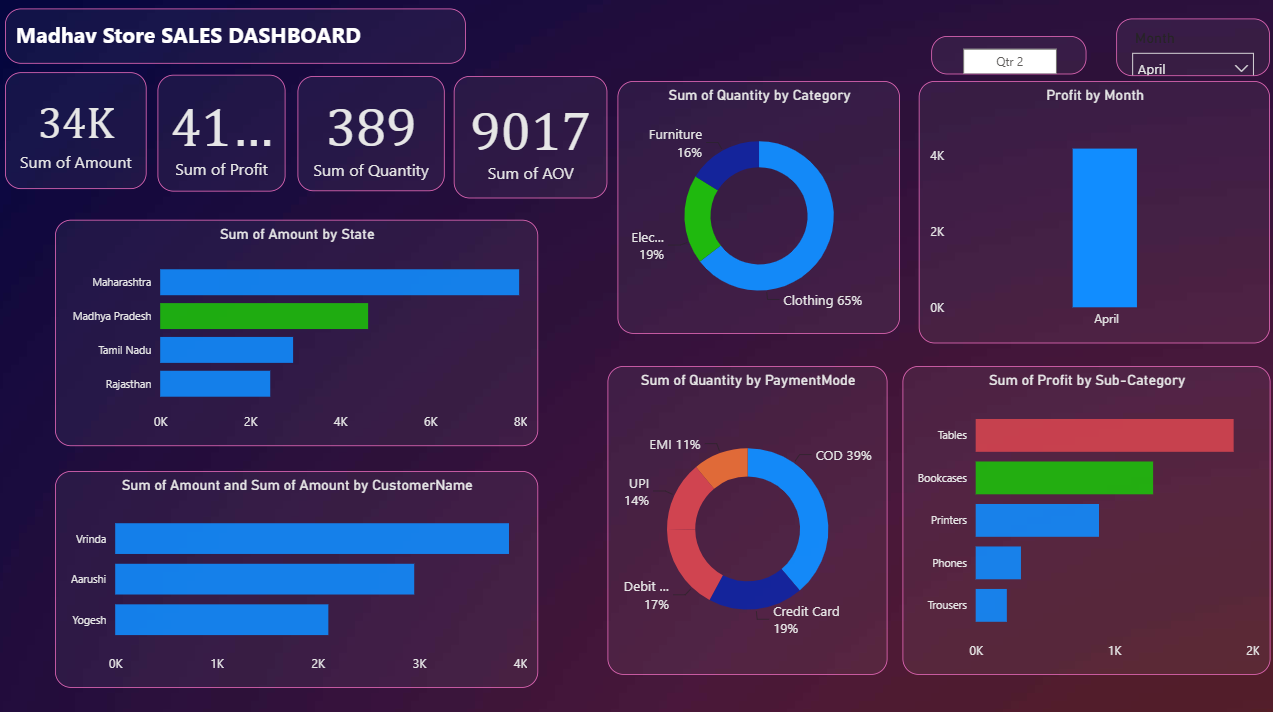

Layout of this report page (visuals, bound fields, positions):
{"tool":"powerbi","page":{"name":"Page 1","canvas":[1280,720],"ordinal":0},"visuals":[{"type":"lineStackedColumnComboChart","title":" Profit by Month","fields":{"Category":["Orders.Order Date.Variation.Date Hierarchy.Month"],"Y":["Sum(detail.Profit)"]},"box":[923.5,85.1,351.3,262.1],"z":0},{"type":"textbox","box":[9.6,12.3,461.1,54.9],"z":1000},{"type":"barChart","fields":{"Category":["detail.Sub-Category"],"Y":["Sum(detail.Profit)"]},"box":[907,370.5,367.8,308.7],"z":2000},{"type":"donutChart","fields":{"Category":["detail.Category"],"Y":["Sum(detail.Quantity)"]},"box":[623,85.1,282.7,252.5],"z":3000},{"type":"donutChart","fields":{"Y":["Sum(detail.Quantity)"],"Category":["detail.PaymentMode"]},"box":[612,370.5,279.9,308.7],"z":4000},{"type":"card","fields":{"Values":["Sum(detail.Amount)"]},"box":[9.6,76.8,141.3,116.6],"z":5000},{"type":"card","fields":{"Values":["Sum(detail.Profit)"]},"box":[161.9,78.2,127.6,116.6],"z":6000},{"type":"card","fields":{"Values":["Sum(detail.Quantity)"]},"box":[301.9,79.6,146.8,115.3],"z":7000},{"type":"card","fields":{"Values":["Sum(detail.AOV)"]},"box":[458.3,79.6,153.7,122.1],"z":8000},{"type":"barChart","fields":{"Category":["Orders.State"],"Y":["Sum(detail.Amount)"]},"box":[60.4,223.7,483,226.4],"z":9000},{"type":"barChart","fields":{"Category":["Orders.CustomerName"],"Y":["Sum(detail.Amount)","Sum(detail.Amount)"]},"box":[60.4,474.8,483,216.8],"z":10000},{"type":"slicer","fields":{"Values":["Orders.Order Date.Variation.Date Hierarchy.Quarter"]},"box":[935.9,39.8,155.1,38.4],"z":11000},{"type":"slicer","fields":{"Values":["Orders.Order Date.Variation.Date Hierarchy.Month"]},"box":[1121.1,22,153.7,57.6],"z":12000}]}

Visuals, with their boxes in screenshot pixels (x1, y1, x2, y2), scaled from the page's 1280x720 canvas onto the 1273x712 screenshot:
" Profit by Month" lineStackedColumnComboChart: 918 84 1268 343
textbox: 10 12 468 66
barChart - detail.Sub-Category x Sum(detail.Profit): 902 366 1268 672
donutChart - detail.Category x Sum(detail.Quantity): 620 84 901 334
donutChart - Sum(detail.Quantity) x detail.PaymentMode: 609 366 887 672
card - Sum(detail.Amount): 10 76 150 191
card - Sum(detail.Profit): 161 77 288 193
card - Sum(detail.Quantity): 300 79 446 193
card - Sum(detail.AOV): 456 79 609 199
barChart - Orders.State x Sum(detail.Amount): 60 221 540 445
barChart - Orders.CustomerName x Sum(detail.Amount): 60 470 540 684
slicer - Orders.Order Date.Variation.Date Hierarchy.Quarter: 931 39 1085 77
slicer - Orders.Order Date.Variation.Date Hierarchy.Month: 1115 22 1268 79
